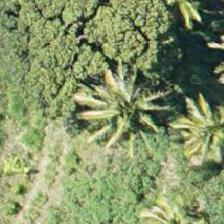coconut_tree: (79, 58, 169, 148), (159, 85, 223, 175)
